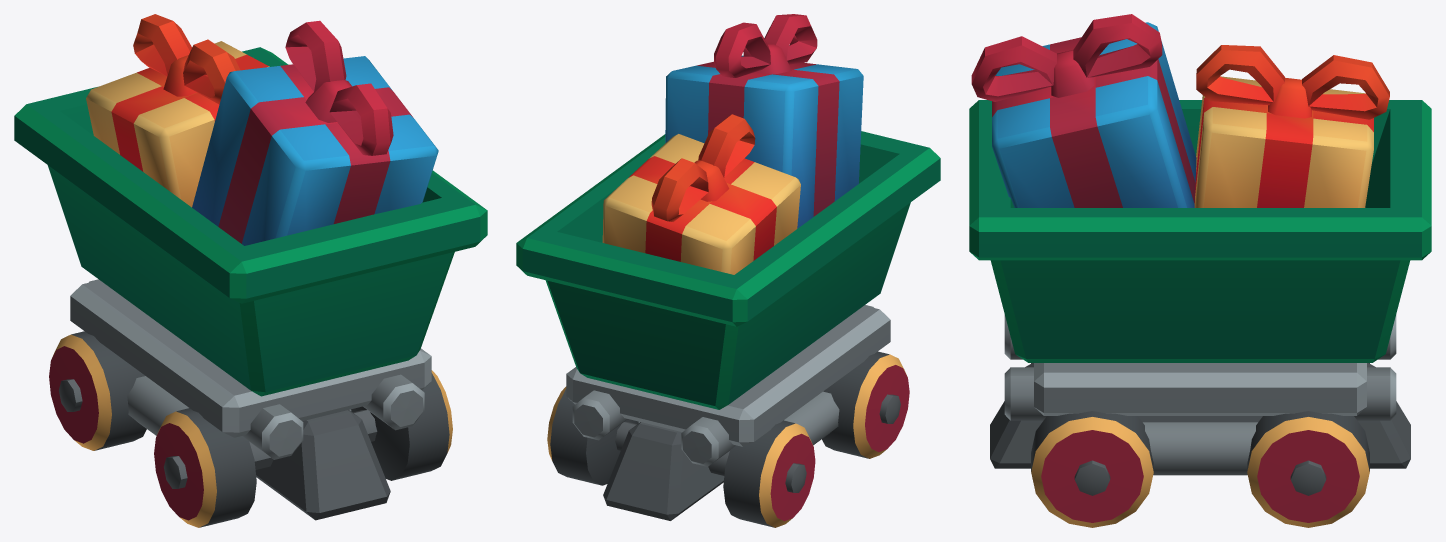
The model's file is train_tender_presents_B.fbx.
The picture shows the model from 3 angles, left to right: view 1: azimuth 30°, elevation 25°; view 2: azimuth 150°, elevation 25°; view 3: azimuth 270°, elevation 25°; orthographic projection. The views are drawn at different scales.
Visible parts, largest first — view 1: train_tender_presents_B; view 2: train_tender_presents_B; view 3: train_tender_presents_B.
Boxes of the visible parts, <box> form: train_tender_presents_B: <box>14,14,487,527</box>; train_tender_presents_B: <box>516,14,940,527</box>; train_tender_presents_B: <box>969,14,1431,527</box>.
Bounding box in the file's own units: 44.59 × 71.5 × 64.21.
